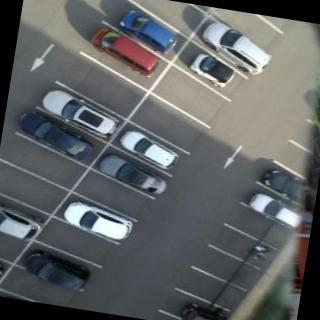car: (194, 17, 283, 83), (37, 80, 129, 143), (84, 20, 173, 82), (14, 106, 102, 164), (93, 151, 178, 203), (113, 4, 187, 59), (20, 245, 96, 297), (61, 197, 141, 244), (111, 125, 188, 173), (241, 190, 311, 233), (186, 48, 245, 95), (256, 163, 314, 205), (1, 199, 52, 245), (177, 300, 235, 320)
parking-space: (50, 45, 157, 125), (120, 85, 220, 159), (1, 127, 104, 197), (145, 60, 236, 133), (64, 161, 161, 227), (26, 210, 125, 274), (1, 156, 80, 230), (1, 257, 91, 311), (201, 6, 289, 61), (186, 239, 270, 295), (170, 263, 259, 315), (222, 194, 299, 254), (204, 220, 283, 275)
